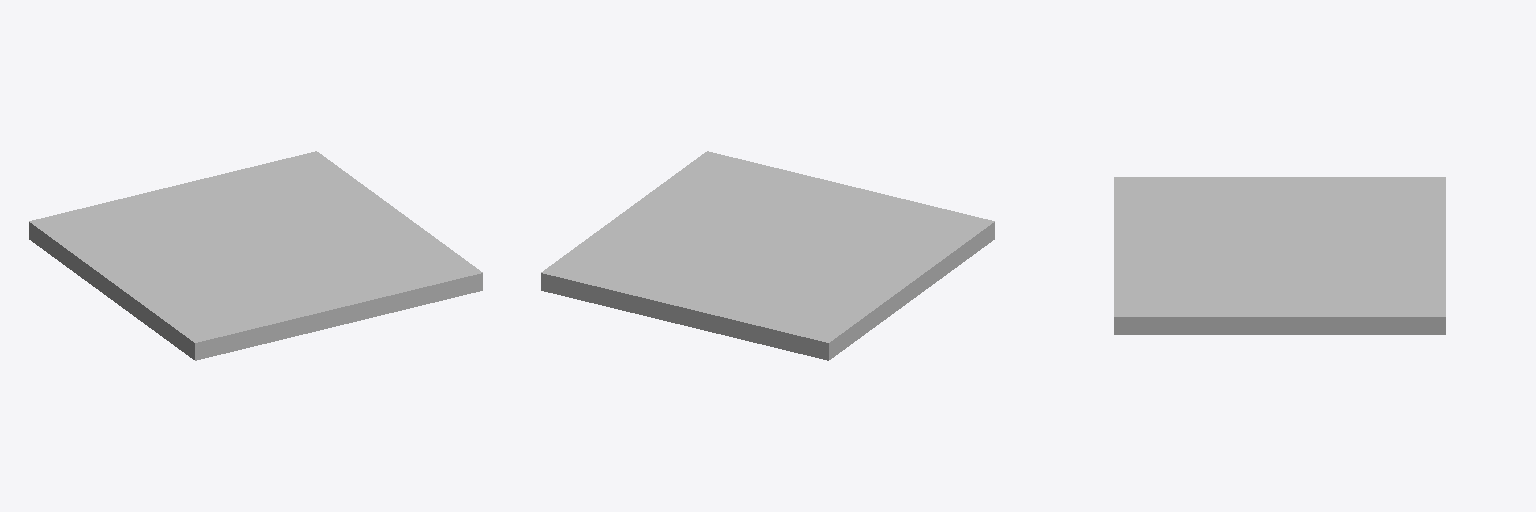
File: twoadjacentcorners.obj
3 renders of one model, left to right at view 1: azimuth 30°, elevation 25°; view 2: azimuth 150°, elevation 25°; view 3: azimuth 270°, elevation 25°, orthographic.
Visible parts, largest first — view 1: twoadjacentcorners; view 2: twoadjacentcorners; view 3: twoadjacentcorners.
Boxes of the visible parts, x1,y1,x2,y2 form: twoadjacentcorners: [29, 151, 482, 360]; twoadjacentcorners: [541, 151, 994, 360]; twoadjacentcorners: [1114, 177, 1445, 334].
Size of the model in its own units: 17 by 1 by 17.